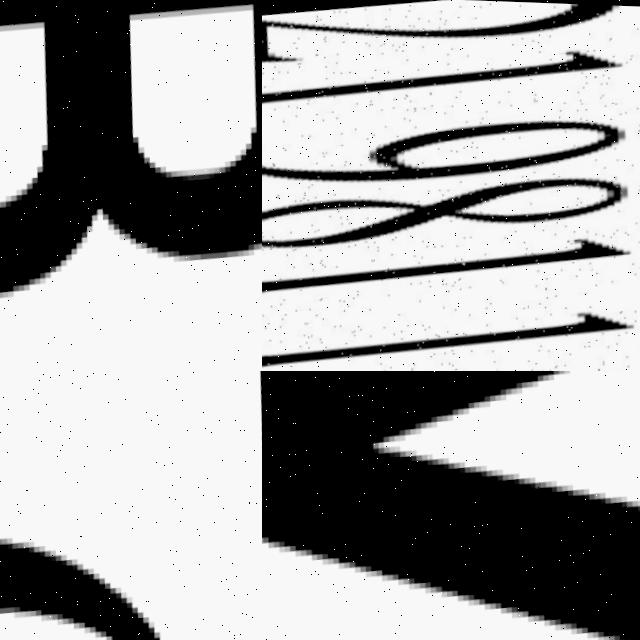1: (262, 212, 640, 315), (262, 25, 627, 126), (262, 286, 640, 371)
2: (262, 0, 629, 81)
5: (262, 331, 640, 371)
8: (262, 148, 640, 269)
9: (0, 410, 251, 640), (262, 90, 638, 210)
V: (262, 371, 640, 640)
